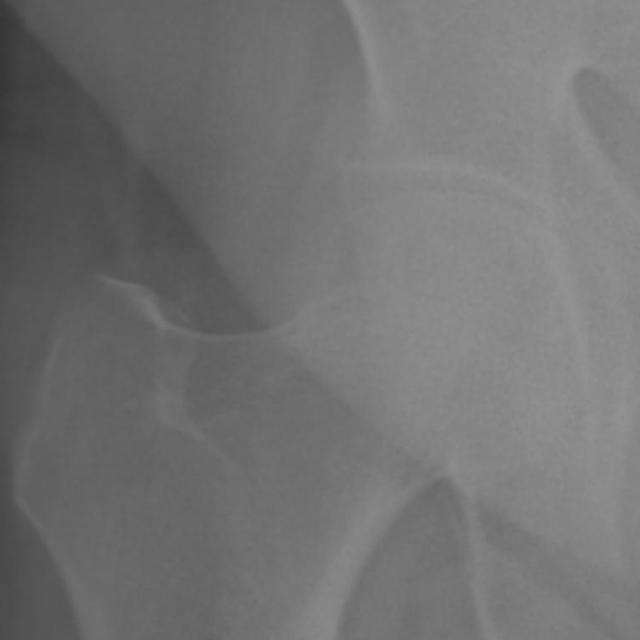Fitted_femural_head: (312, 187, 432, 312)
